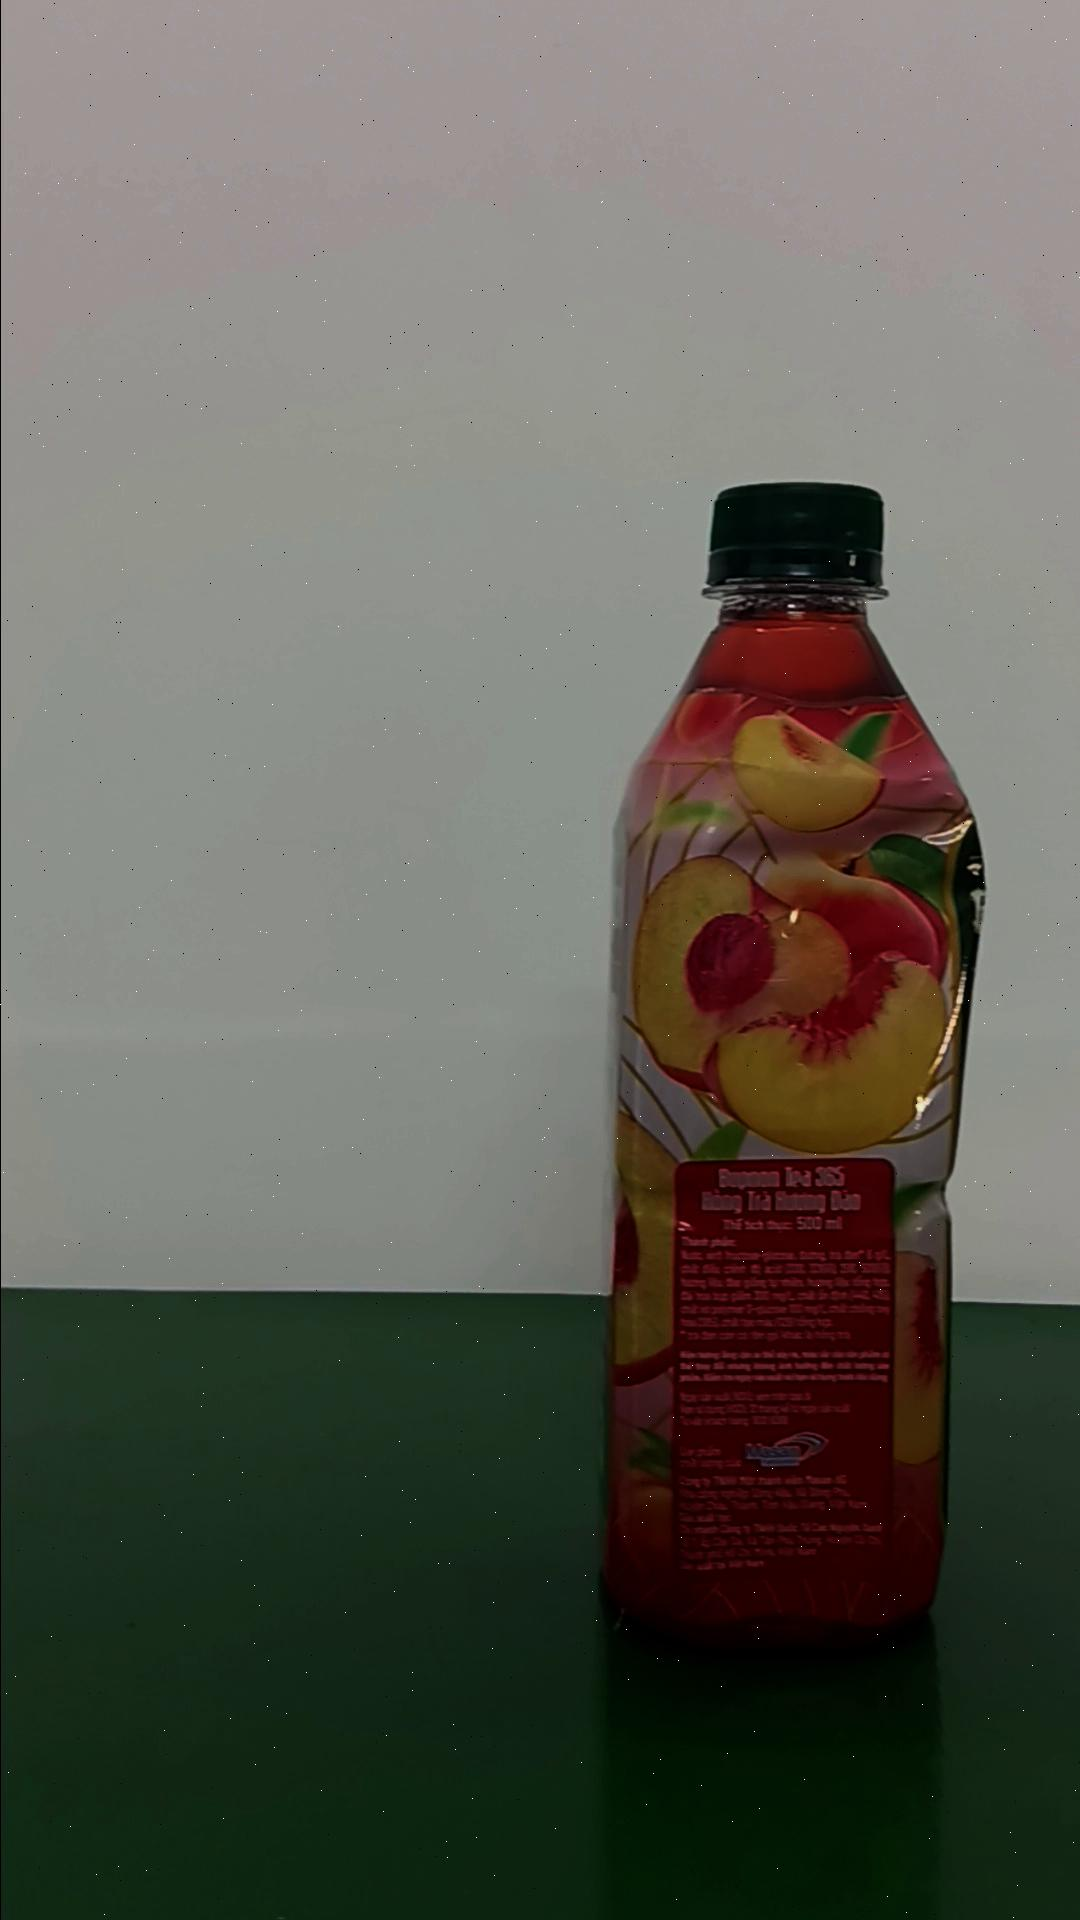loi meo sp: (603, 479, 986, 1652)
